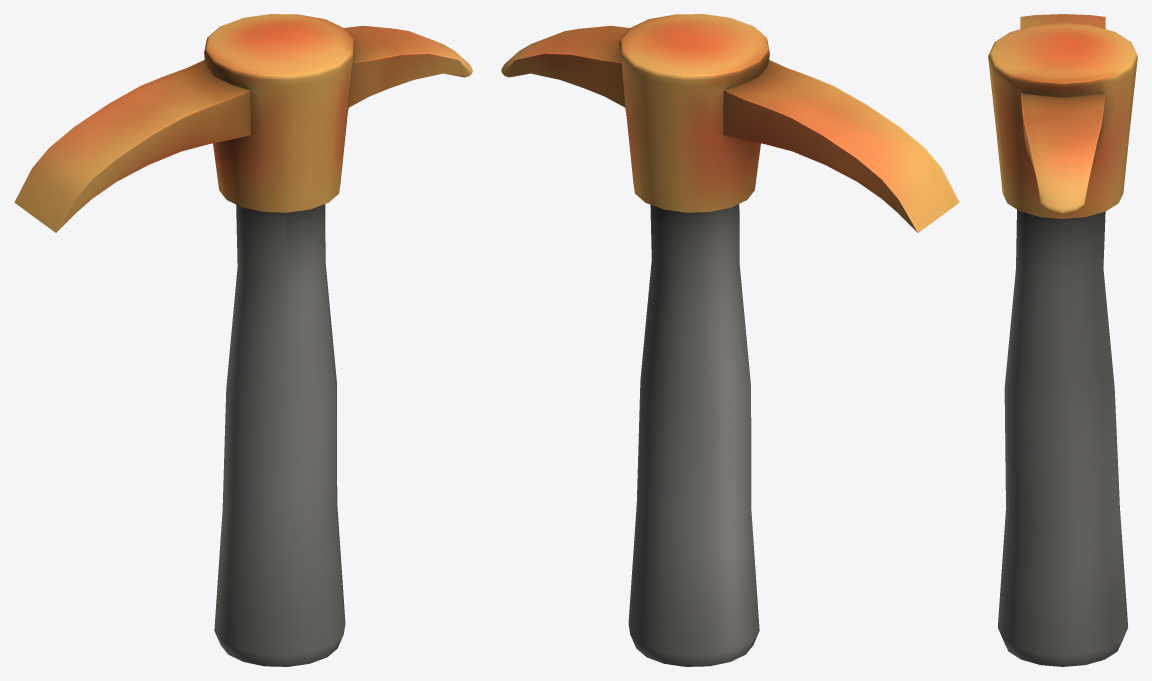
Rendered from Axe.fbx.
3 renders of one model, left to right at view 1: azimuth 30°, elevation 25°; view 2: azimuth 150°, elevation 25°; view 3: azimuth 270°, elevation 25°, orthographic.
Visible parts, largest first — view 1: Axe; view 2: Axe; view 3: Axe.
Part boxes in pixels (x1,y1,x2,y2): Axe: (14,14,472,666); Axe: (501,14,959,666); Axe: (988,14,1137,666).
Bounding box in the file's own units: 0.1397 × 0.1877 × 0.0423.
